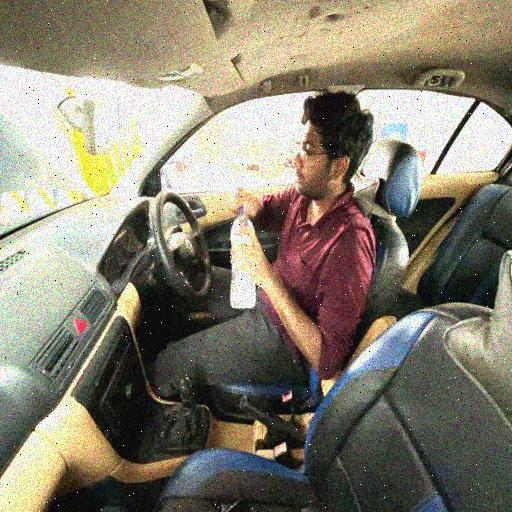Drinking: (190, 90, 374, 373)
